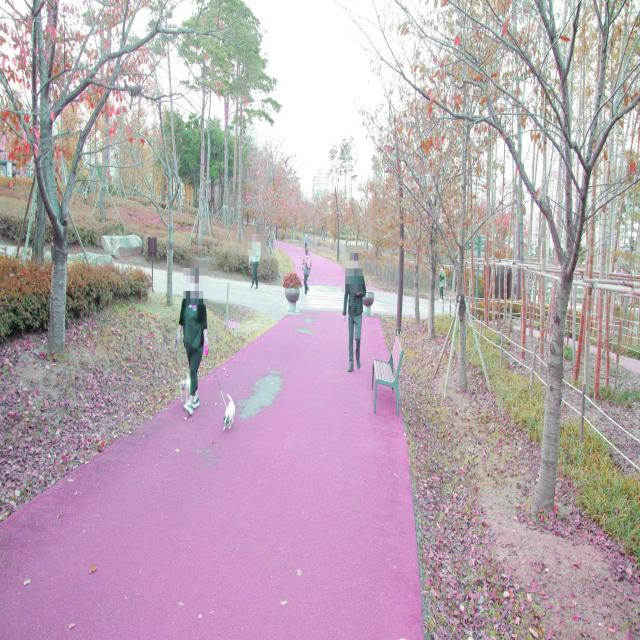Leashed_Dog: (197, 324, 234, 432), (180, 325, 191, 406)
